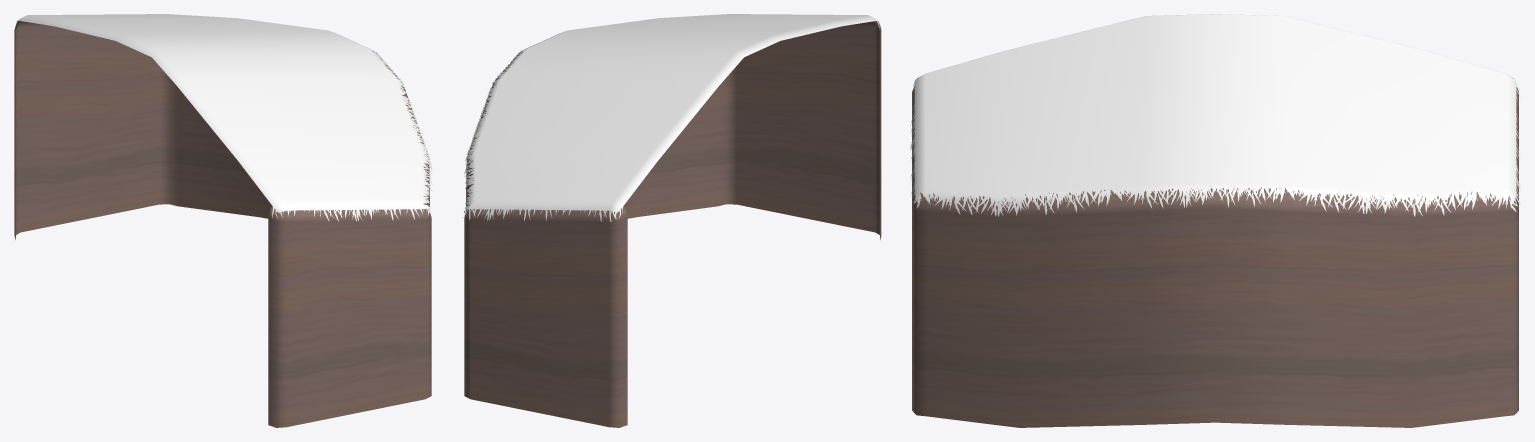
Rendered from Cliff01.fbx.
3 renders of one model, left to right at view 1: azimuth 30°, elevation 25°; view 2: azimuth 150°, elevation 25°; view 3: azimuth 270°, elevation 25°, orthographic. The views are drawn at different scales.
Parts seen in each view (by area): view 1: Cliff; view 2: Cliff; view 3: Cliff.
Part boxes in pixels (x1,y1,x2,y2): Cliff: [14, 14, 432, 427]; Cliff: [462, 14, 881, 427]; Cliff: [910, 14, 1520, 427].
Size of the model in its own units: 2629 by 2987 by 5121.
